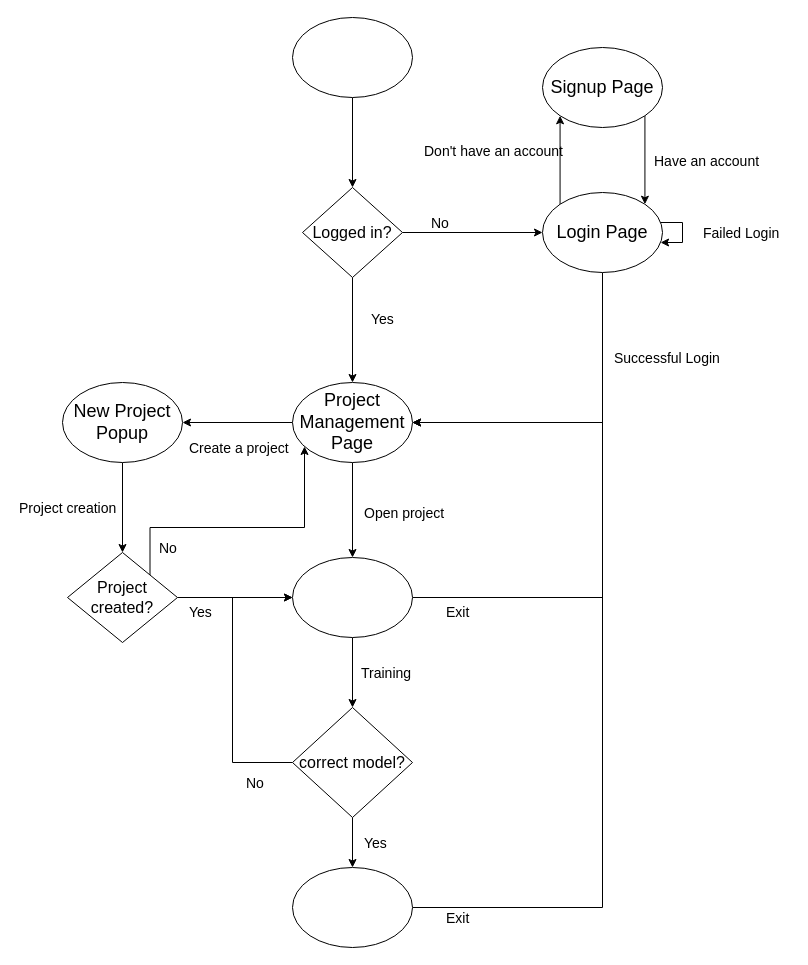
Some shapes in this 808 by 965 pixel diagram are drawn without their labels. The centre of each missing label's shape, as x and y in pixels:
"Main Page" goes at point 352,597.
"Output Page" goes at point 352,907.
"Start" goes at point 352,57.
